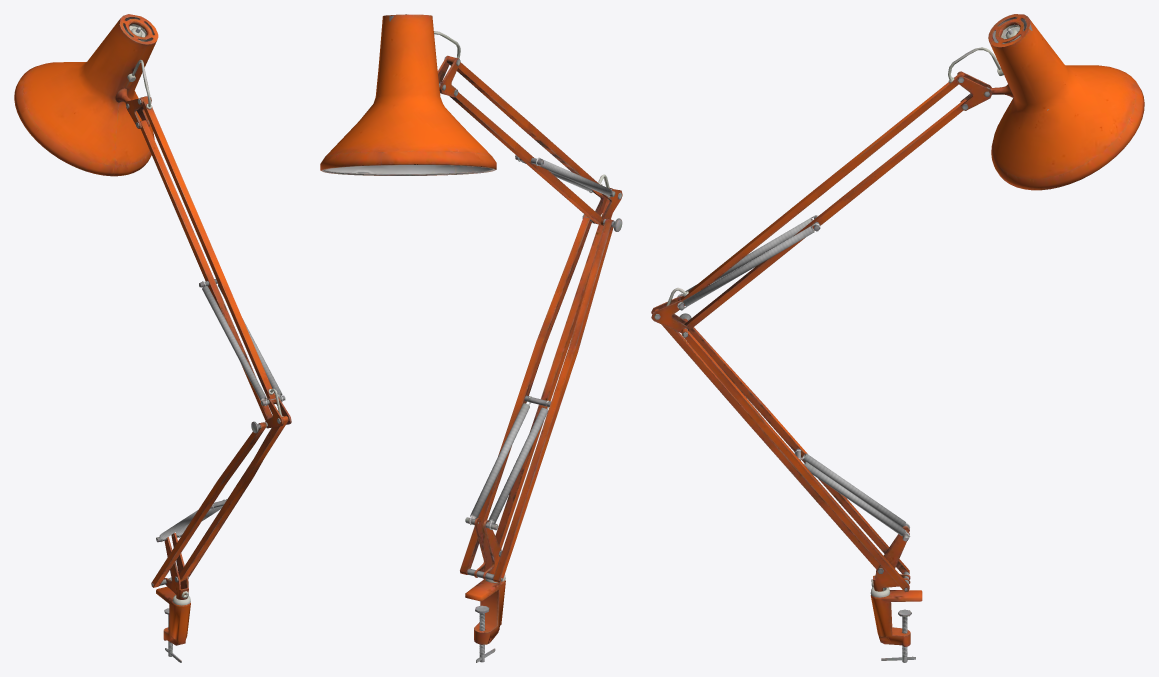
Rendered from desk_lamp.glb.
The picture shows the model from 3 angles, left to right: view 1: azimuth 30°, elevation 25°; view 2: azimuth 150°, elevation 25°; view 3: azimuth 270°, elevation 25°; orthographic projection. The views are drawn at different scales.
Parts seen in each view (by area): view 1: desk_lamp_arm_01; view 2: desk_lamp_arm_01; view 3: desk_lamp_arm_01.
Boxes of the visible parts, x1,y1,x2,y2 form: desk_lamp_arm_01: [14, 14, 291, 662]; desk_lamp_arm_01: [320, 14, 622, 662]; desk_lamp_arm_01: [651, 14, 1144, 662].
Bounding box in the file's own units: 0.2017 × 0.8926 × 0.6139.
Materials: 2 (2 with a texture image).
